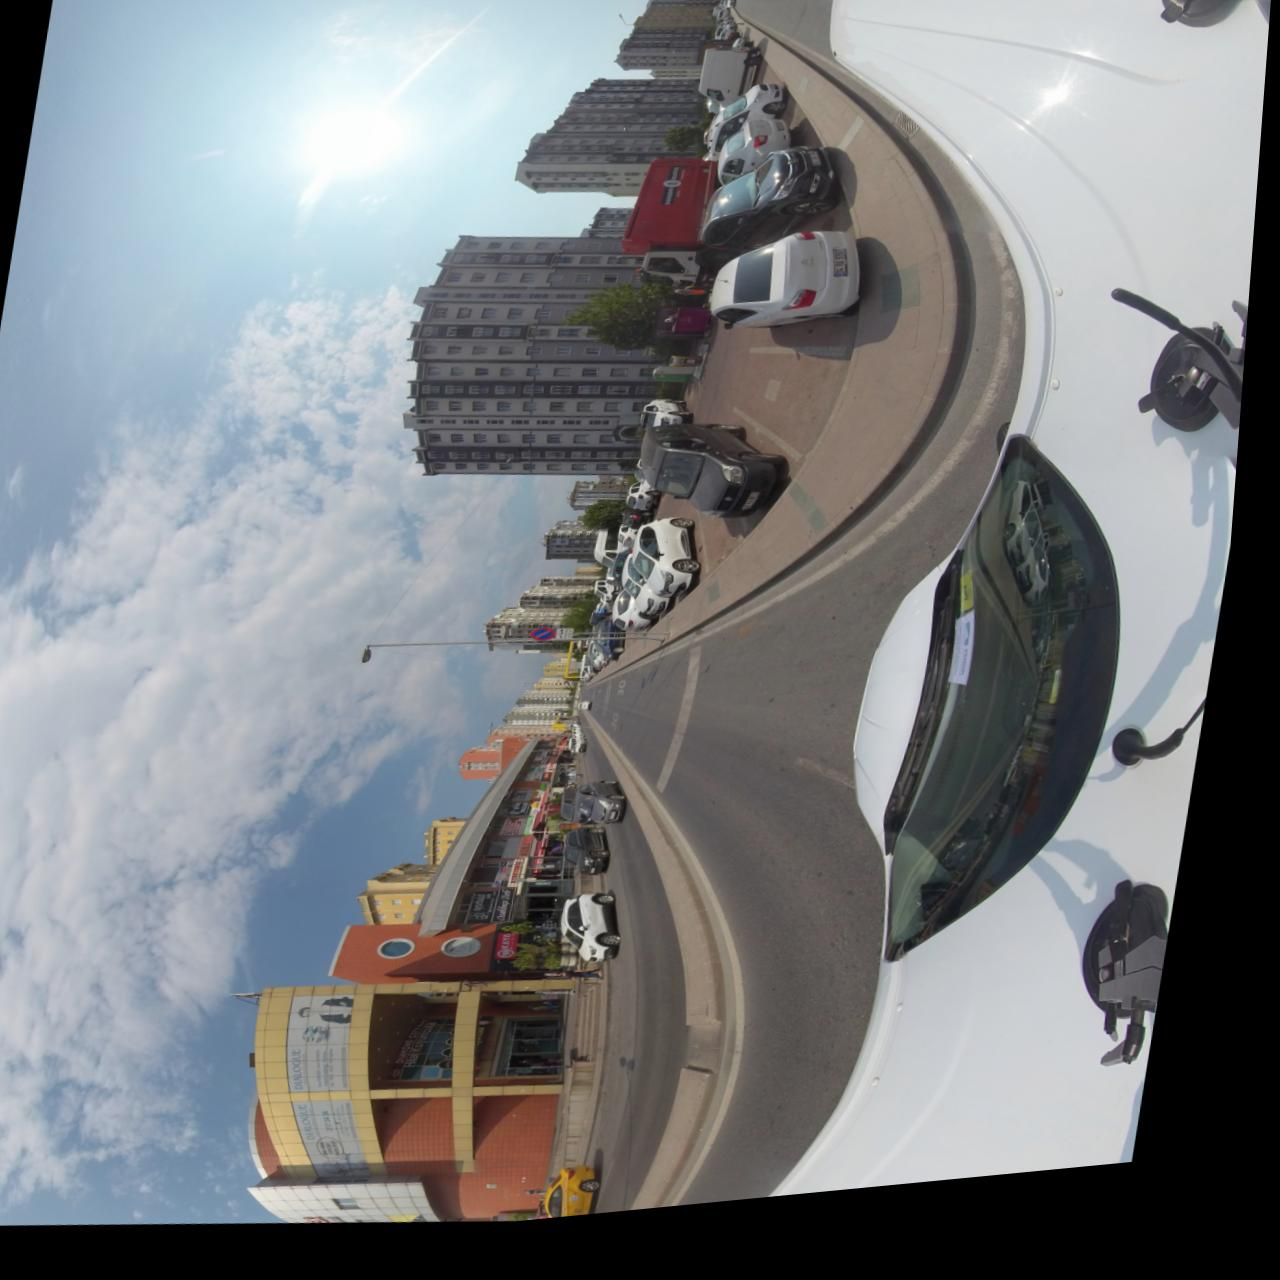SignStore: (505, 941, 538, 982), (483, 901, 512, 933), (508, 899, 530, 933), (523, 870, 538, 898), (545, 795, 564, 811), (532, 847, 547, 867), (538, 828, 549, 845), (544, 812, 554, 826), (554, 784, 565, 792), (561, 775, 568, 782), (564, 763, 571, 768), (568, 754, 573, 757)
